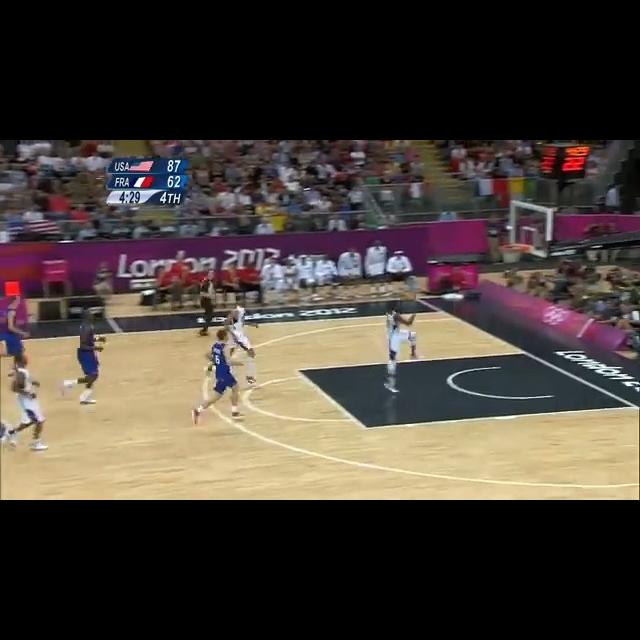hoop: (499, 246, 523, 263)
